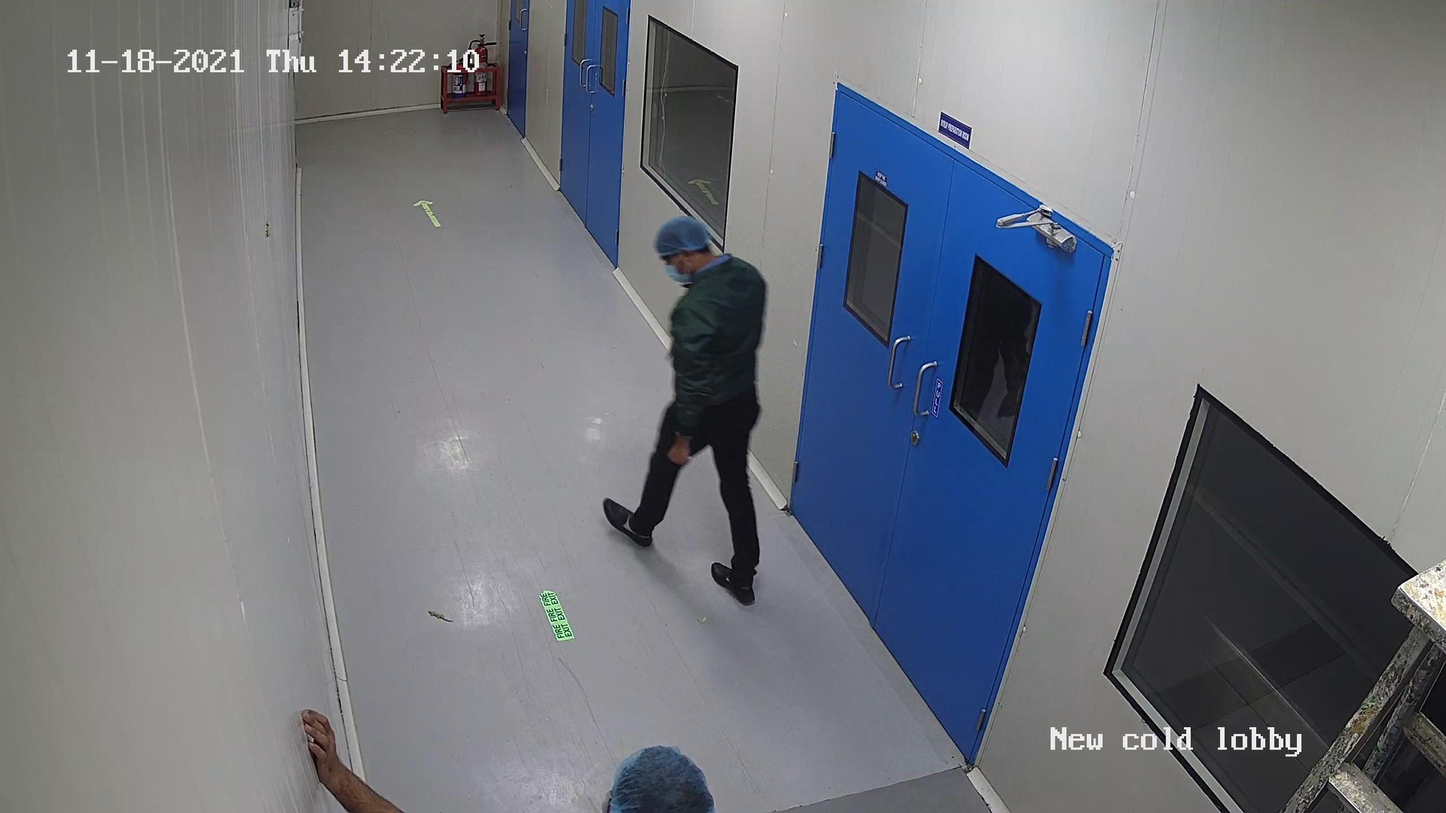lizard: (424, 605, 454, 624)
